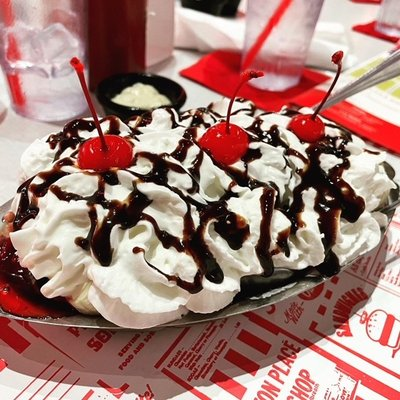sushi: (1, 74, 373, 330)
